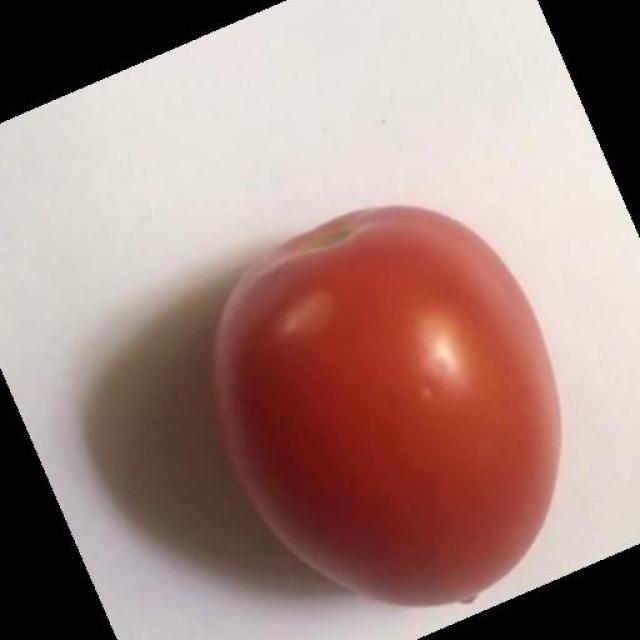Fresh Tomato: (152, 185, 594, 625)
